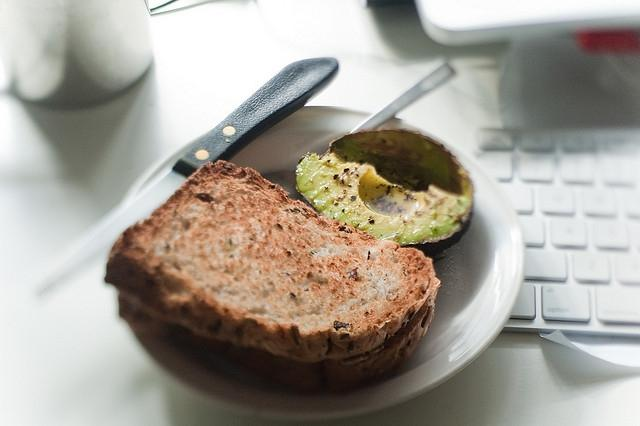avocado: (295, 129, 474, 257)
